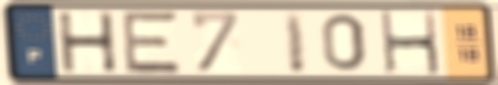0: (318, 11, 374, 75)
7: (189, 9, 242, 76)
E: (121, 9, 184, 75)
H: (376, 9, 444, 77), (54, 10, 121, 75)
I: (281, 10, 310, 76)
